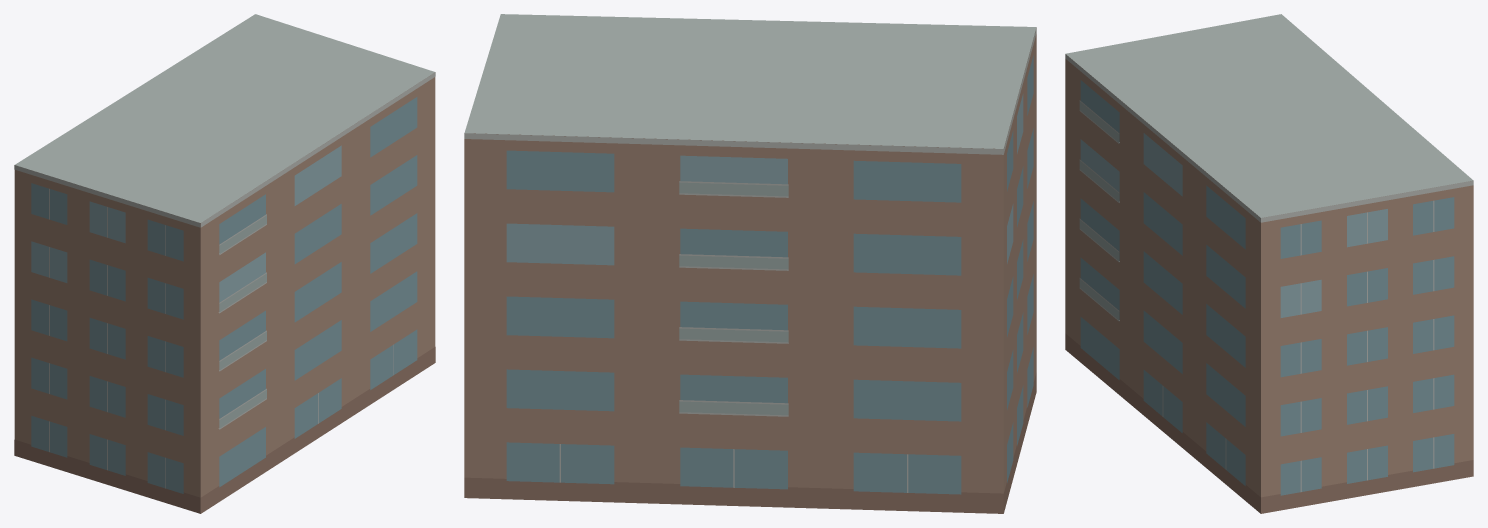
File: survey-upis-32925275.glb
3 renders of one model, left to right at view 1: azimuth 30°, elevation 25°; view 2: azimuth 150°, elevation 25°; view 3: azimuth 270°, elevation 25°, orthographic. The views are drawn at different scales.
Visible parts, largest first — view 1: survey-upis-32925275.tmp; view 2: survey-upis-32925275.tmp; view 3: survey-upis-32925275.tmp.
Boxes of the visible parts, x1,y1,x2,y2 form: survey-upis-32925275.tmp: (14,14,435,513); survey-upis-32925275.tmp: (464,14,1036,513); survey-upis-32925275.tmp: (1065,14,1473,513).
Bounding box in the file's own units: 22.56 × 15.25 × 19.08.
